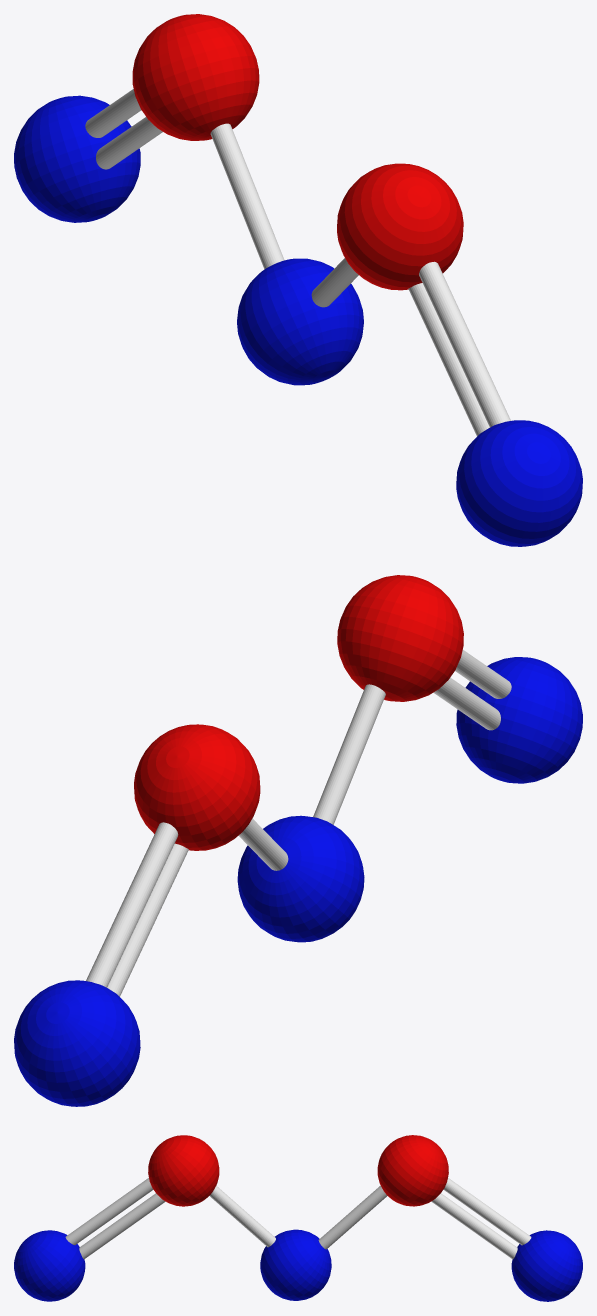
The model's file is iki açısal.gltf.
3 renders of one model, top to bottom at view 1: azimuth 30°, elevation 25°; view 2: azimuth 150°, elevation 25°; view 3: azimuth 270°, elevation 25°, orthographic. The views are drawn at different scales.
Visible parts, largest first — view 1: Sphere.002, Sphere.005, Sphere.001, Sphere.003, Sphere.004, Cylinder, Cylinder.005, Cylinder.002, Cylinder.003, Cylinder.004, Cylinder.001; view 2: Sphere.004, Sphere.001, Sphere.005, Sphere.003, Sphere.002, Cylinder.004, Cylinder.001, Cylinder.003, Cylinder.002, Cylinder, Cylinder.005; view 3: Sphere.005, Sphere.001, Sphere.004, Sphere.002, Sphere.003, Cylinder.004, Cylinder, Cylinder.002, Cylinder.003, Cylinder.005, Cylinder.001.
Boxes of the visible parts, bbox=[...] form: Sphere.002: bbox=[456, 420, 582, 546]; Sphere.005: bbox=[132, 14, 259, 140]; Sphere.001: bbox=[337, 163, 463, 290]; Sphere.003: bbox=[237, 258, 363, 385]; Sphere.004: bbox=[14, 95, 140, 222]; Cylinder: bbox=[419, 261, 510, 427]; Cylinder.005: bbox=[210, 123, 284, 269]; Cylinder.002: bbox=[408, 283, 489, 436]; Cylinder.003: bbox=[96, 117, 162, 169]; Cylinder.004: bbox=[85, 89, 141, 137]; Cylinder.001: bbox=[311, 258, 358, 307]; Sphere.004: bbox=[14, 980, 140, 1106]; Sphere.001: bbox=[337, 575, 463, 701]; Sphere.005: bbox=[134, 724, 260, 850]; Sphere.003: bbox=[237, 815, 364, 942]; Sphere.002: bbox=[456, 657, 582, 783]; Cylinder.004: bbox=[86, 822, 178, 987]; Cylinder.001: bbox=[313, 684, 385, 824]; Cylinder.003: bbox=[107, 843, 188, 996]; Cylinder.002: bbox=[433, 677, 500, 730]; Cylinder: bbox=[455, 650, 511, 698]; Cylinder.005: bbox=[238, 818, 288, 870]; Sphere.005: bbox=[377, 1135, 448, 1206]; Sphere.001: bbox=[148, 1135, 219, 1206]; Sphere.004: bbox=[511, 1230, 582, 1301]; Sphere.002: bbox=[14, 1230, 85, 1301]; Sphere.003: bbox=[260, 1229, 331, 1300]; Cylinder.004: bbox=[443, 1178, 531, 1245]; Cylinder: bbox=[65, 1178, 153, 1245]; Cylinder.002: bbox=[79, 1193, 165, 1259]; Cylinder.003: bbox=[431, 1193, 517, 1259]; Cylinder.005: bbox=[318, 1185, 387, 1249]; Cylinder.001: bbox=[209, 1186, 275, 1247].
Size of the model in its own units: 2.01 by 4.93 by 15.91.
